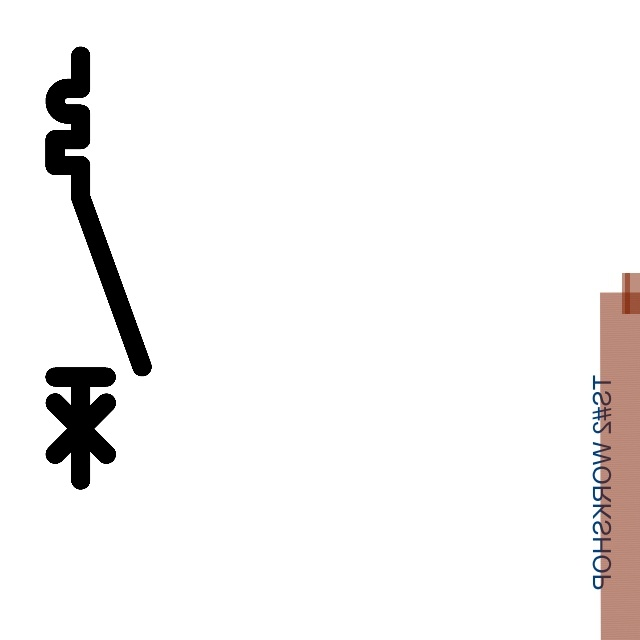interruptor_termomagnetico: (44, 45, 153, 491)
